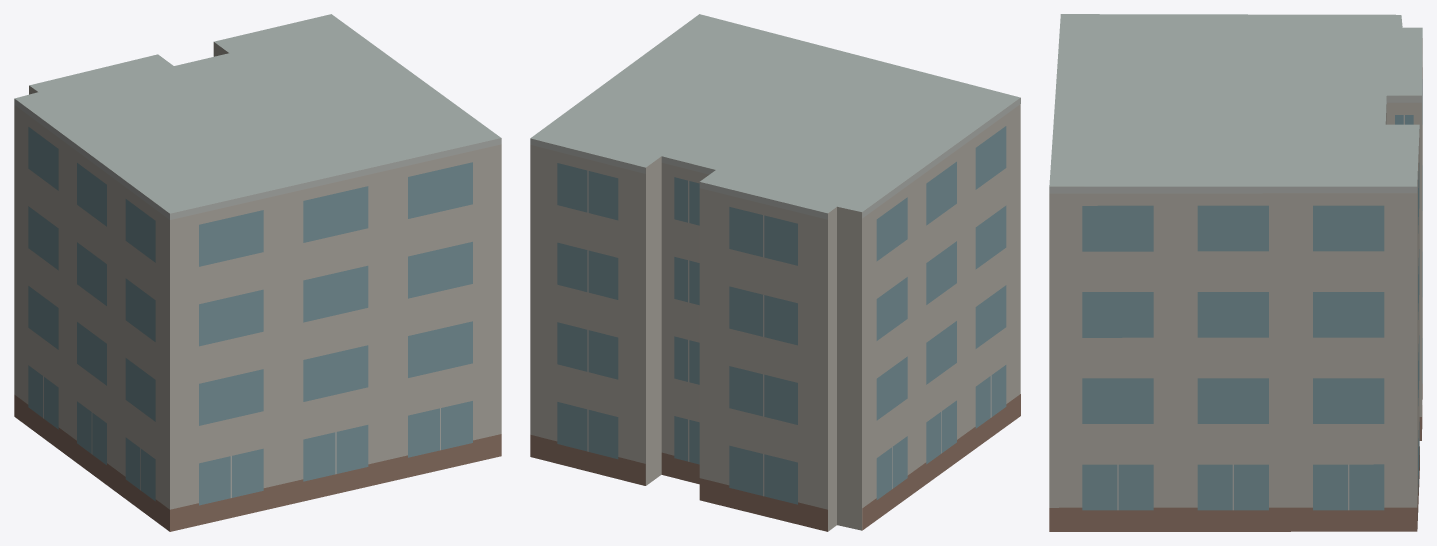
File: survey-upis-32724216.glb
3 renders of one model, left to right at view 1: azimuth 30°, elevation 25°; view 2: azimuth 150°, elevation 25°; view 3: azimuth 270°, elevation 25°, orthographic. The views are drawn at different scales.
Visible parts, largest first — view 1: survey-upis-32724216.tmp; view 2: survey-upis-32724216.tmp; view 3: survey-upis-32724216.tmp.
Boxes of the visible parts, x1,y1,x2,y2 form: survey-upis-32724216.tmp: (14,14,501,531); survey-upis-32724216.tmp: (530,14,1020,531); survey-upis-32724216.tmp: (1049,14,1422,531).
Size of the model in its own units: 13.1 by 12.2 by 11.97.
